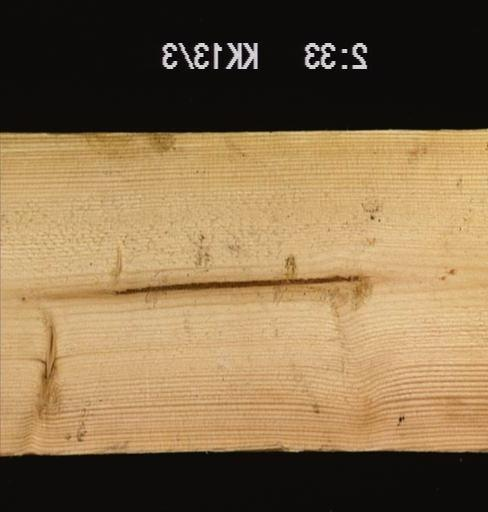small_knot: (12, 288, 33, 307)
